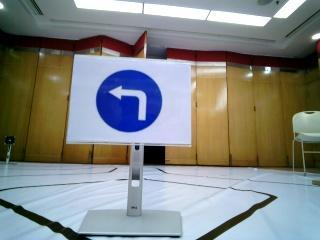left: (90, 59, 180, 141)
